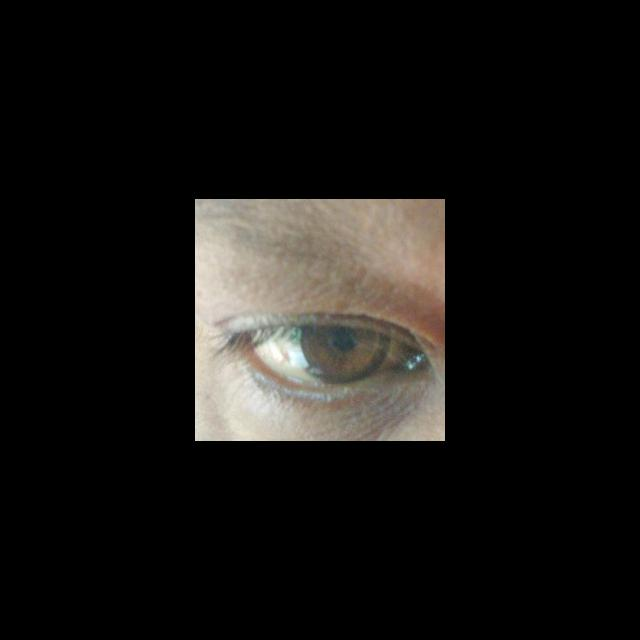eye: (246, 324, 407, 383)
iris: (300, 326, 389, 380)
